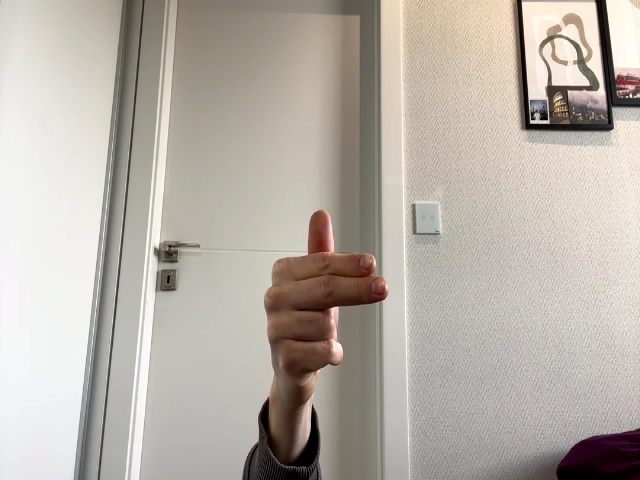N: (265, 211, 388, 374)
